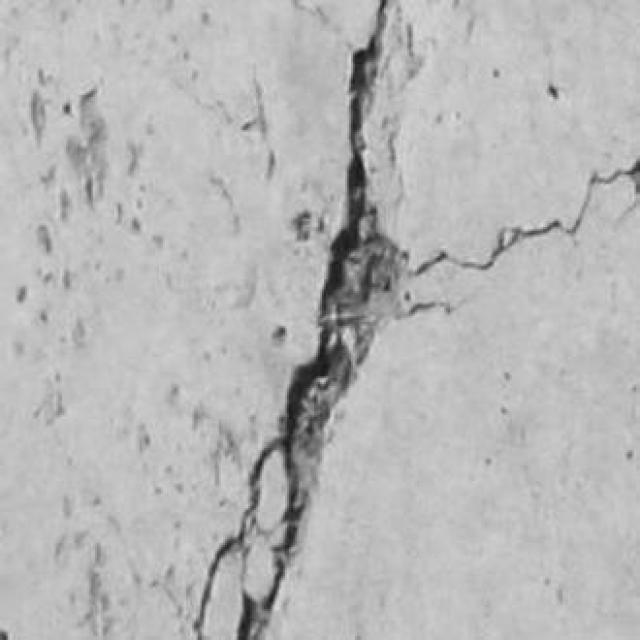crack: (194, 0, 639, 639), (194, 0, 407, 639), (412, 161, 639, 277)
